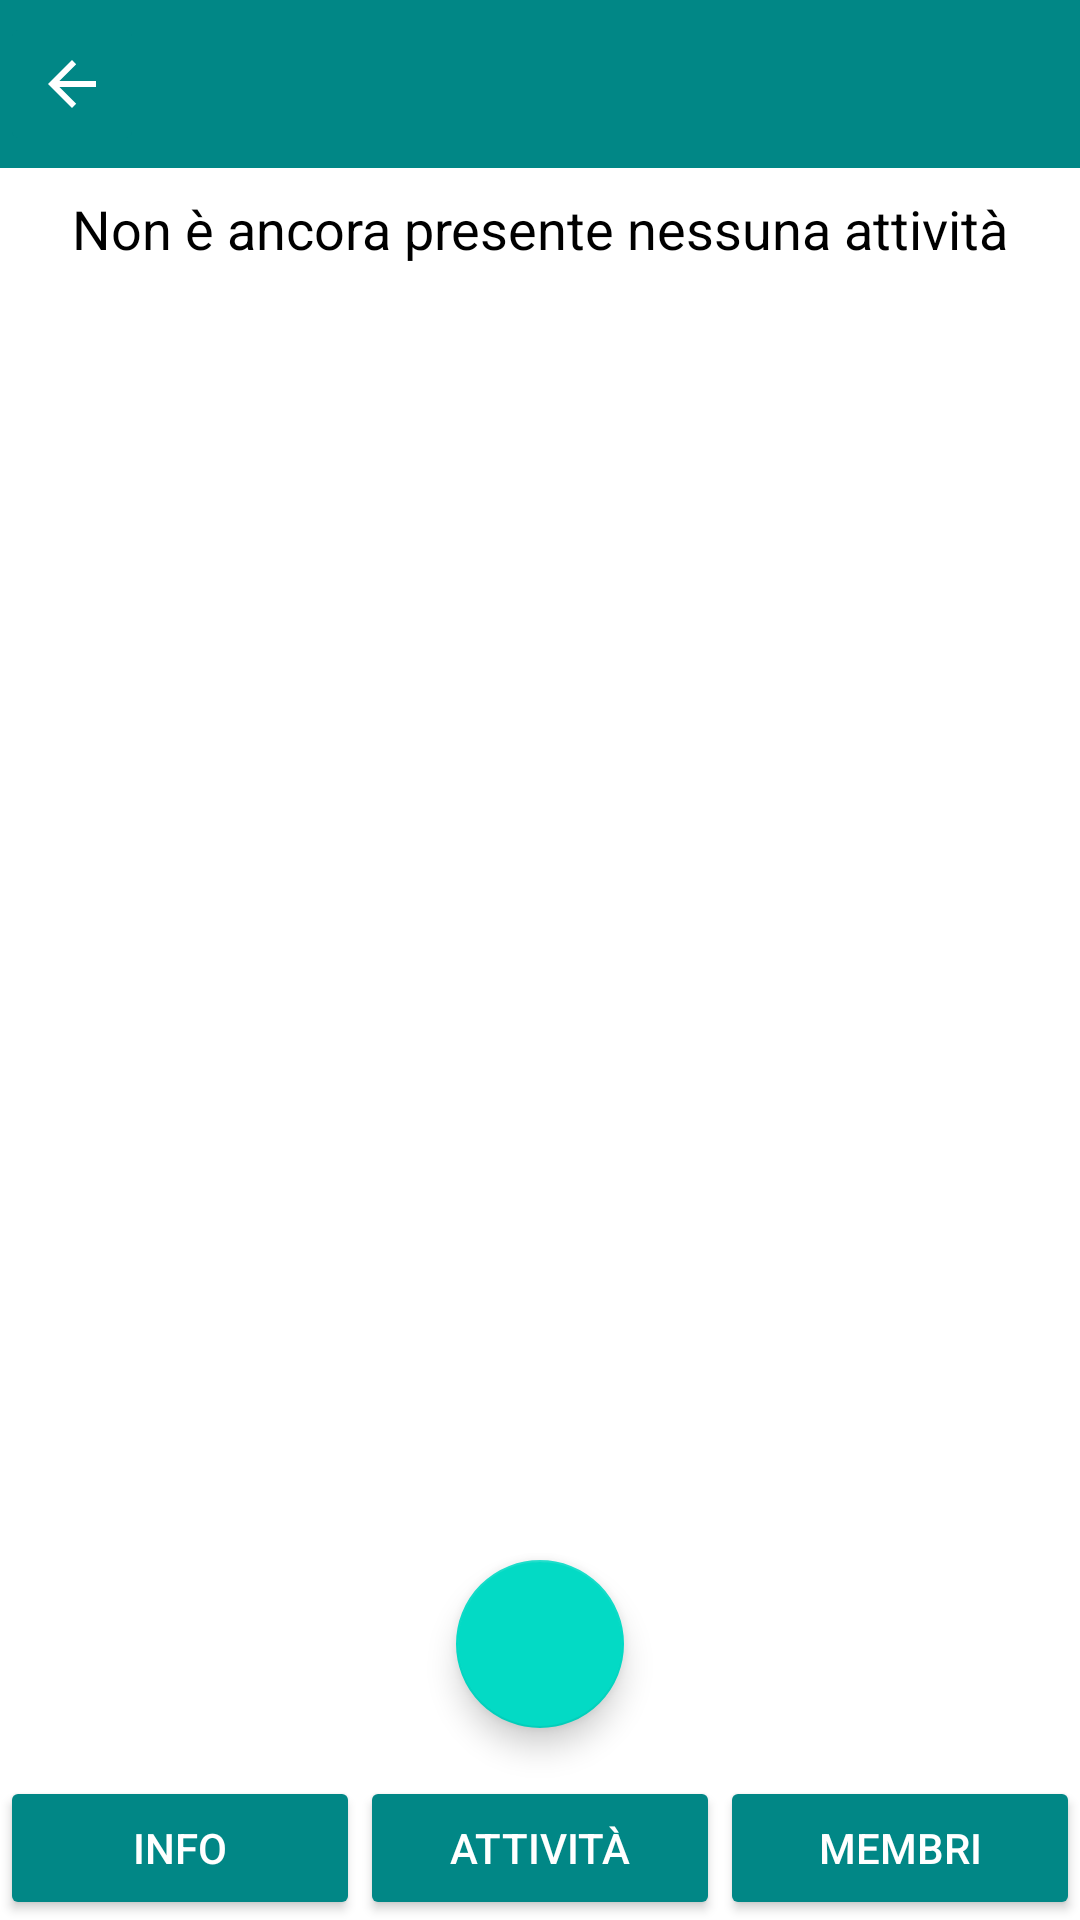

Icons on this 1080*1920 Android screen, each with the point to tap as (x,y):
Back: (72,84)
